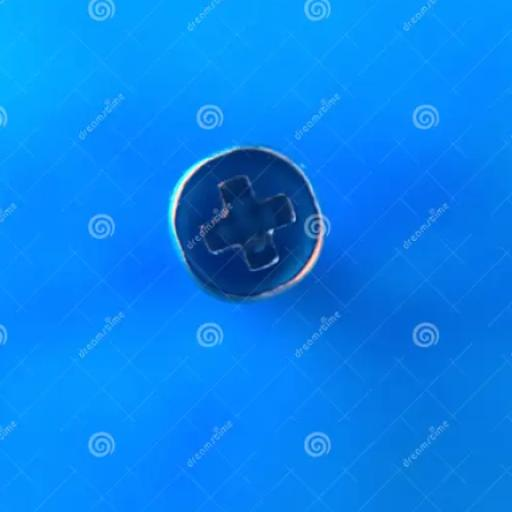Phillips: (173, 140, 322, 302)
